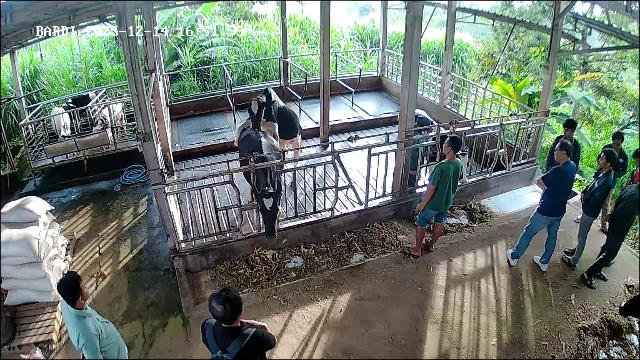mounting: (236, 89, 303, 188)
